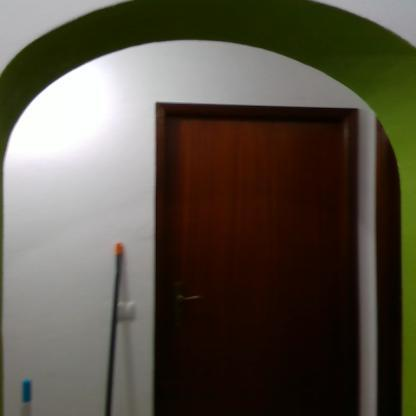door: (168, 113, 355, 415)
lever: (176, 294, 206, 305)
